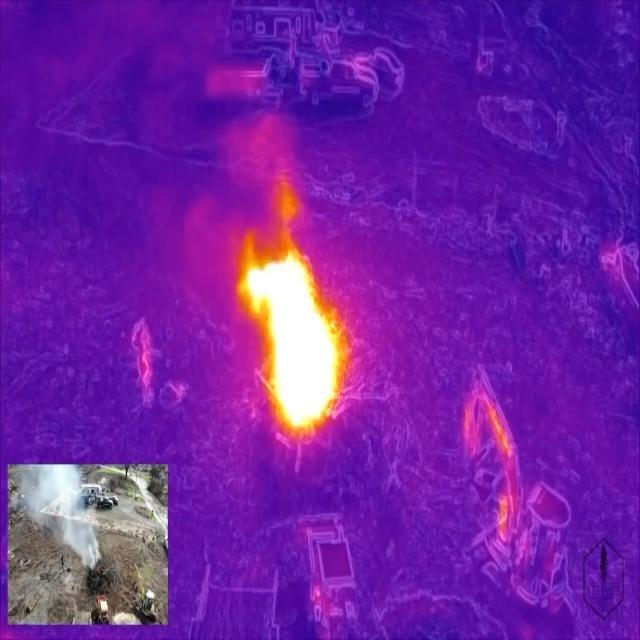fire: (245, 246, 345, 436)
